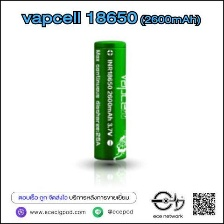battery: (90, 36, 130, 165)
